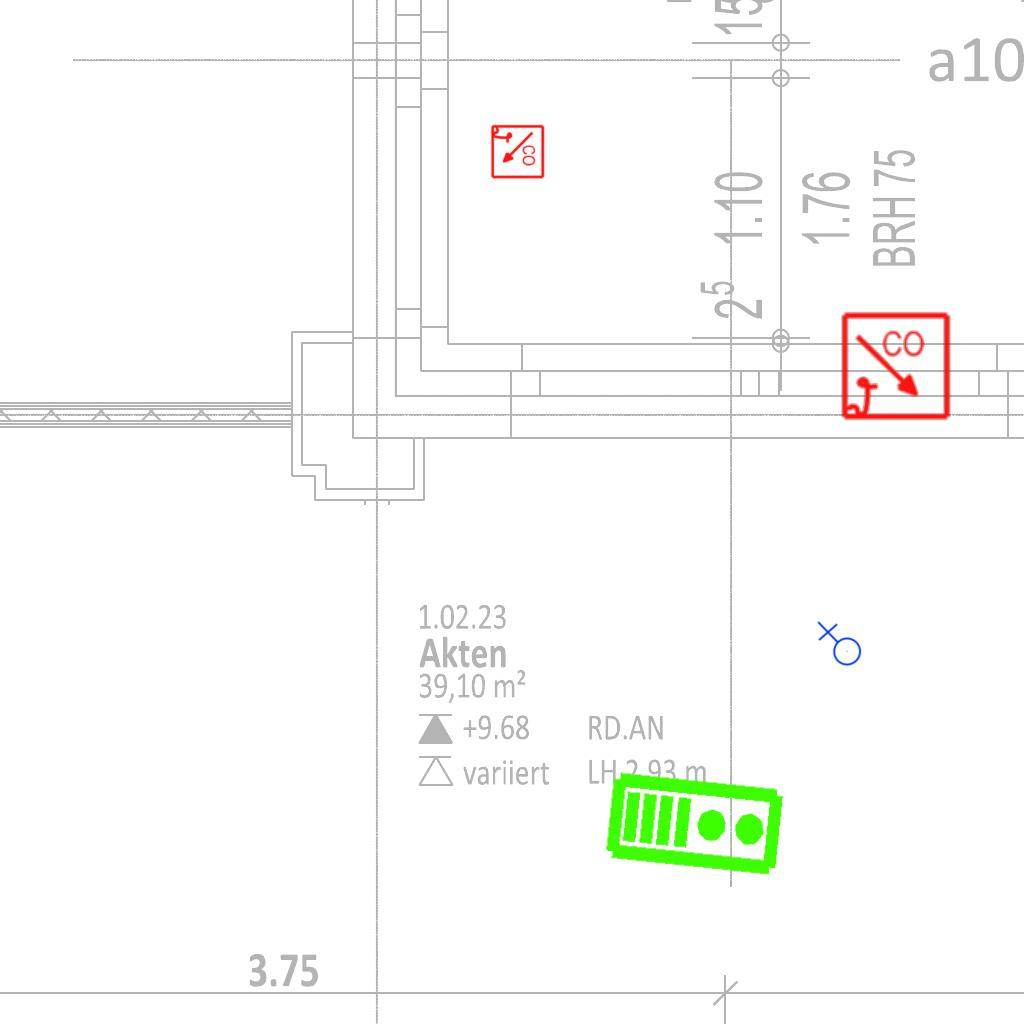Elektroanschluss_allgemein_230V_Geraeteanschlussdose_230V: (815, 621, 862, 670)
Gegensprechanlage_mit_Video: (603, 765, 788, 879)
ROA_Rauchmelder_optisch_mit_Signalgeber_(Sockelsirene): (840, 311, 953, 424), (489, 124, 545, 180)
